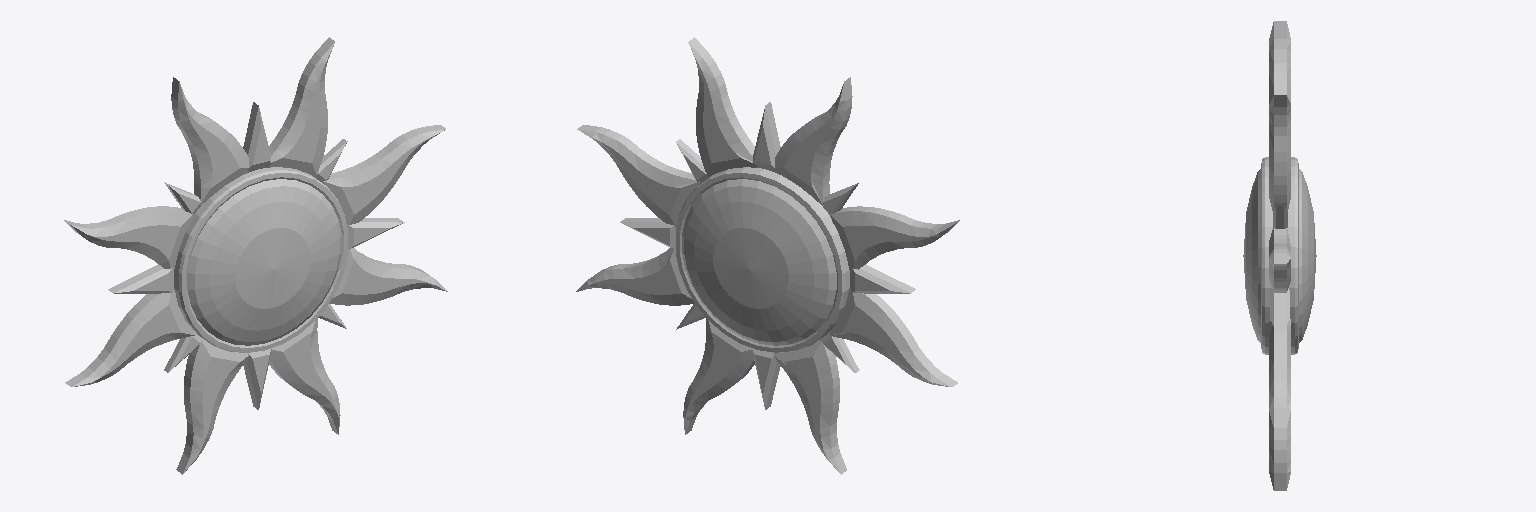
Rendered from Sun.obj.
The picture shows the model from 3 angles: view 1: azimuth 30°, elevation 25°; view 2: azimuth 150°, elevation 25°; view 3: azimuth 270°, elevation 25°; orthographic projection.
Bounding box in the file's own units: 44.31 × 44.31 × 7.42.